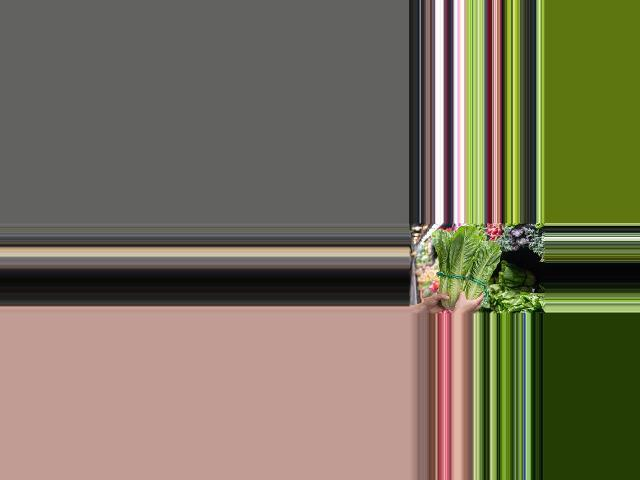lettuce: (435, 229, 502, 314)
